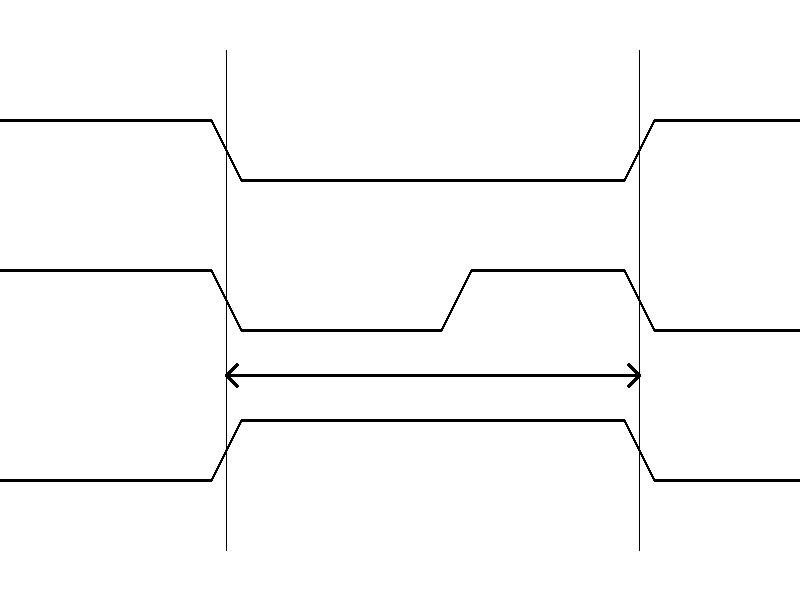double_arrow: (226, 360, 639, 390)
